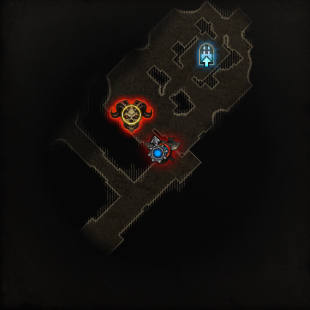Guardian: (109, 99, 153, 133)
